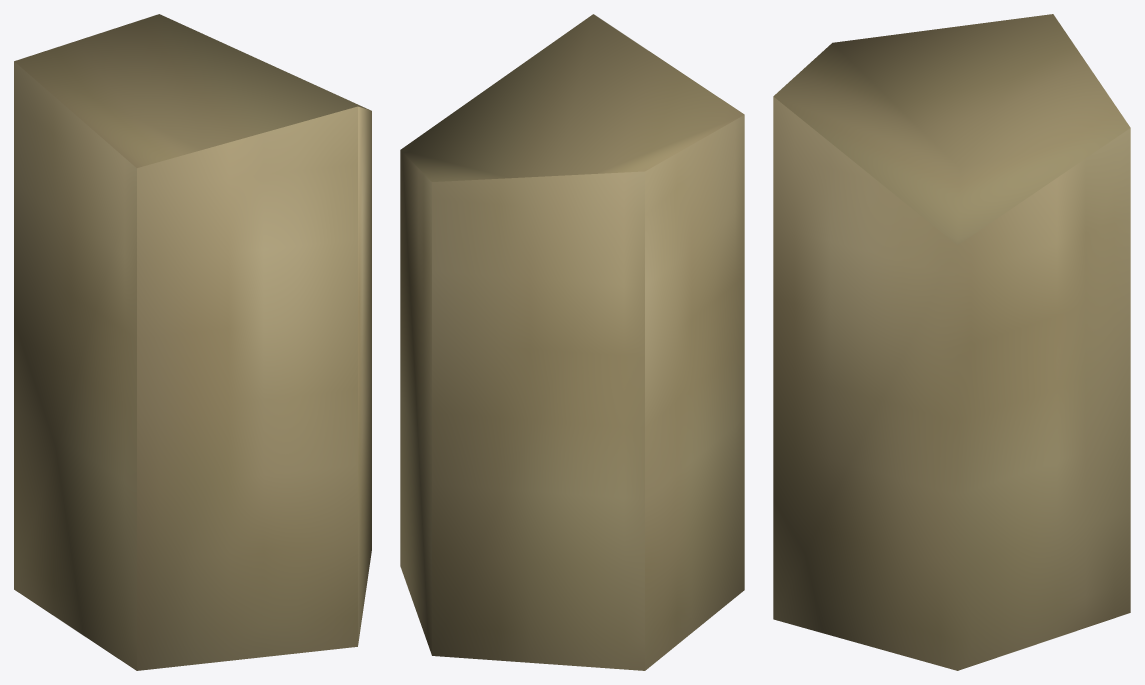
File: DT_TORCH_V1.glb
The picture shows the model from 3 angles, left to right: view 1: azimuth 30°, elevation 25°; view 2: azimuth 150°, elevation 25°; view 3: azimuth 270°, elevation 25°; orthographic projection. The views are drawn at different scales.
Parts seen in each view (by area): view 1: Mesh; view 2: Mesh; view 3: Mesh.
Part boxes in pixels (x1,y1,x2,y2): Mesh: (14,14,371,670); Mesh: (400,14,744,670); Mesh: (773,14,1130,670).
Size of the model in its own units: 0.1833 by 0.3068 by 0.19.
Materials: 1 (1 with a texture image).
